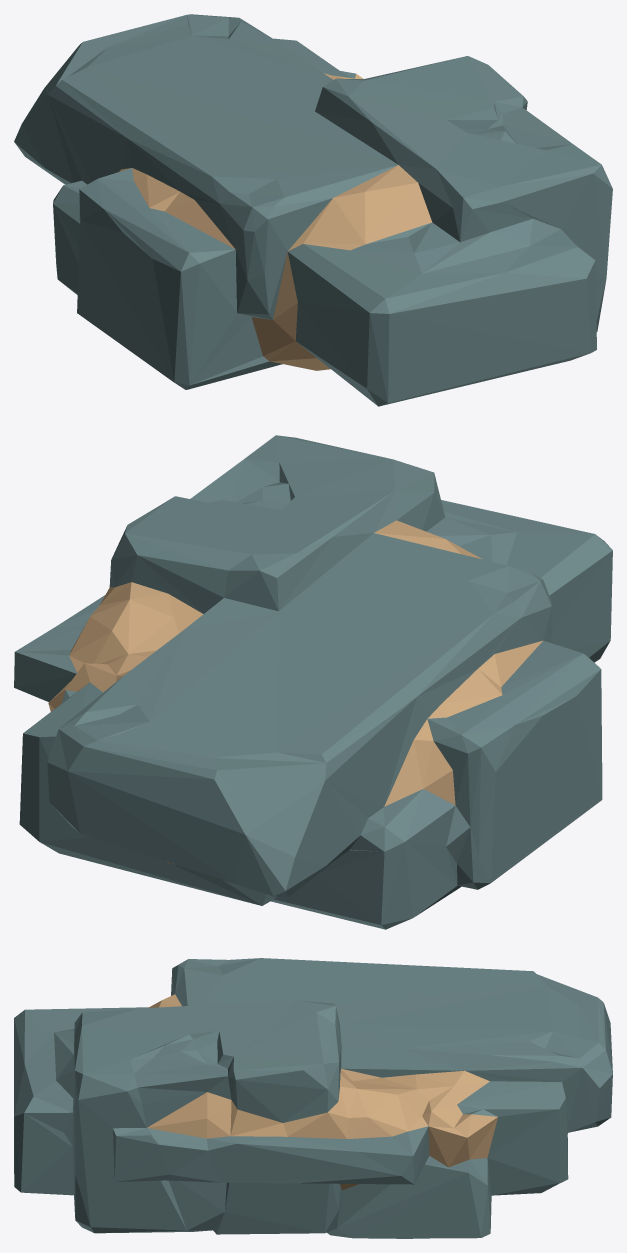
File: SM_LP_MetalNode_4.fbx
3 renders of one model, top to bottom at view 1: azimuth 30°, elevation 25°; view 2: azimuth 150°, elevation 25°; view 3: azimuth 270°, elevation 25°, orthographic. The views are drawn at different scales.
Parts seen in each view (by area): view 1: SM_LP_MetalNode_4; view 2: SM_LP_MetalNode_4; view 3: SM_LP_MetalNode_4.
Part boxes in pixels (x1=…): SM_LP_MetalNode_4: x1=14, y1=14, x2=612, y2=406; SM_LP_MetalNode_4: x1=14, y1=435, x2=612, y2=929; SM_LP_MetalNode_4: x1=14, y1=958, x2=612, y2=1238.
Size of the model in its own units: 0.8495 by 0.431 by 1.2.
